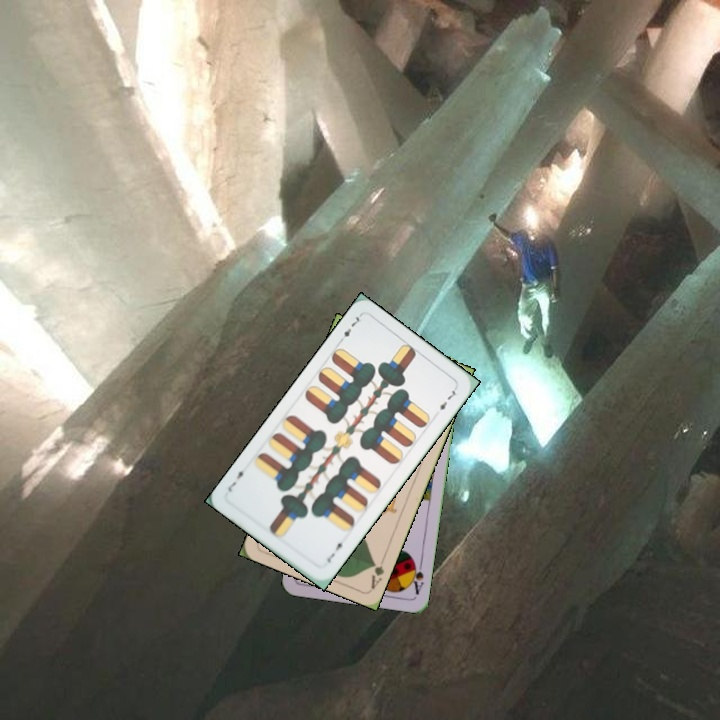E7: (334, 311, 365, 346), (323, 536, 348, 565)
GA: (366, 552, 388, 592)
SA: (407, 556, 427, 597)
